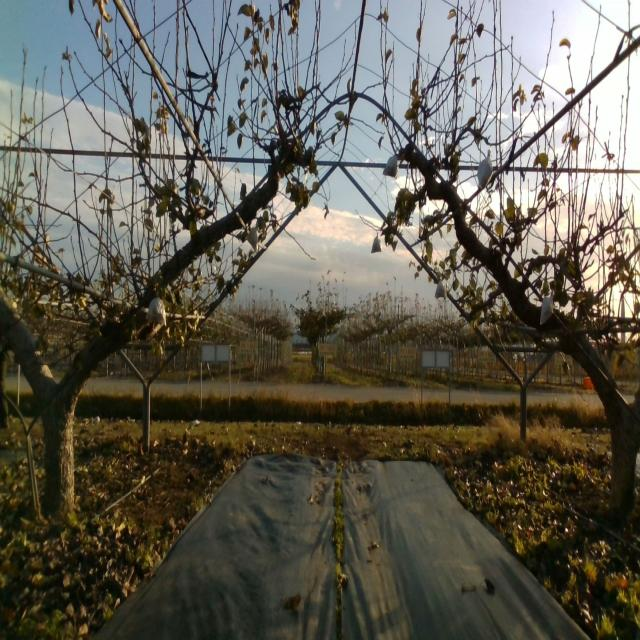pearbags: (146, 290, 166, 326), (478, 150, 492, 188), (540, 294, 555, 326), (245, 228, 260, 254), (383, 156, 397, 177), (435, 280, 447, 302), (371, 232, 381, 255)
